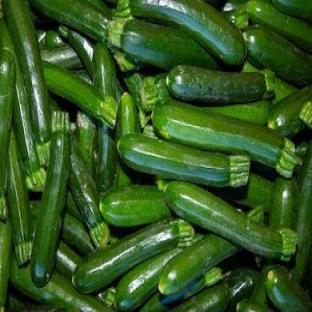Zucchini: (152, 105, 298, 177), (165, 182, 295, 261), (73, 220, 193, 292), (0, 20, 45, 190), (118, 134, 249, 187), (31, 111, 70, 286), (108, 20, 217, 69), (10, 257, 109, 310), (159, 234, 240, 295), (44, 63, 116, 128), (69, 141, 109, 248), (167, 65, 273, 103), (244, 26, 311, 85), (116, 249, 180, 310), (141, 268, 223, 311), (7, 131, 32, 266), (100, 185, 171, 226), (292, 142, 311, 281), (0, 50, 15, 220), (268, 87, 311, 135), (266, 267, 311, 311), (225, 173, 273, 212), (59, 26, 93, 75), (172, 282, 229, 311), (203, 100, 271, 124), (269, 178, 298, 230), (226, 267, 259, 311), (95, 124, 116, 193), (61, 212, 94, 255), (124, 74, 149, 128), (76, 112, 97, 175), (92, 42, 116, 97), (140, 74, 175, 111), (248, 264, 275, 308), (116, 93, 139, 142), (41, 45, 82, 69), (0, 221, 11, 309), (56, 242, 81, 280), (111, 47, 144, 71), (271, 77, 297, 105), (66, 190, 84, 223), (223, 10, 248, 29), (43, 29, 65, 50), (236, 299, 272, 311), (97, 286, 115, 308), (300, 101, 311, 129), (75, 69, 93, 85), (296, 141, 308, 159), (142, 124, 156, 139)
